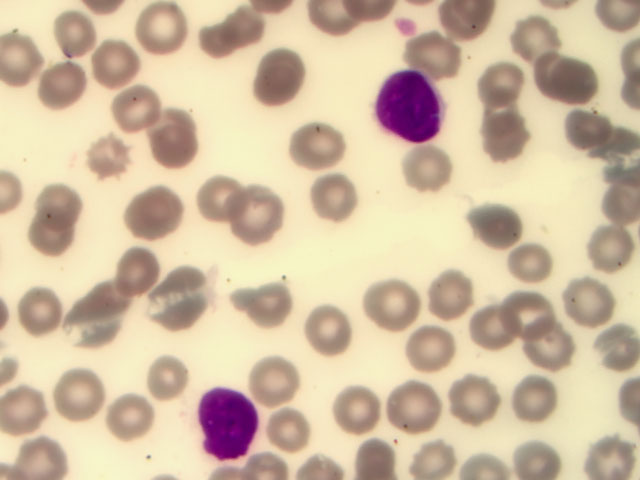Platelets: (390, 10, 422, 43)
RBC: (36, 67, 95, 121), (42, 1, 101, 55), (83, 43, 142, 97), (102, 75, 161, 129), (76, 135, 135, 189), (142, 116, 201, 170), (134, 3, 193, 57), (201, 2, 260, 56), (245, 56, 304, 110), (294, 110, 353, 164), (297, 171, 356, 225), (235, 192, 294, 246), (189, 175, 248, 229), (131, 189, 190, 243), (28, 172, 87, 226), (27, 200, 86, 254), (99, 236, 158, 290), (69, 285, 128, 339), (16, 281, 75, 335), (158, 270, 217, 324), (141, 344, 200, 398), (115, 387, 174, 441), (46, 371, 105, 425), (1, 396, 60, 450), (7, 426, 66, 480), (244, 353, 303, 407), (233, 282, 292, 336), (310, 311, 369, 365), (365, 279, 424, 333), (401, 322, 460, 376), (423, 271, 482, 325), (459, 309, 518, 363), (507, 287, 566, 341), (499, 246, 558, 300), (488, 203, 547, 257), (403, 147, 462, 201), (478, 109, 537, 163), (486, 59, 545, 113), (552, 55, 611, 109), (513, 16, 572, 70), (574, 107, 633, 161), (581, 221, 640, 275), (562, 277, 621, 331), (581, 318, 640, 372), (515, 329, 574, 383), (506, 377, 565, 431), (448, 380, 507, 434), (393, 381, 452, 435), (337, 386, 396, 440), (342, 426, 401, 480), (403, 426, 462, 480), (510, 426, 569, 480), (581, 426, 640, 480), (263, 402, 322, 456), (1, 34, 59, 88)
WBC: (374, 65, 452, 147), (195, 392, 256, 456)
